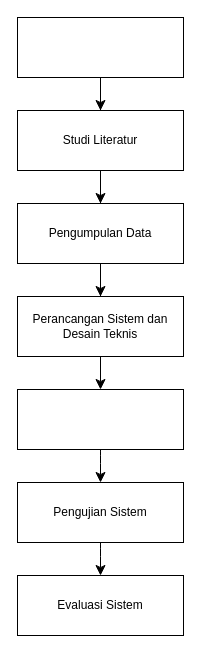
Some shapes in this 201 by 653 pixel diagram are drawn without their labels. The shapes that lost their labels are listed below. From the top down, each one's centre as x and y in pixels, then its label:
(x=100, y=47): Identifikasi Masalah
(x=100, y=419): Pembuatan Produk
